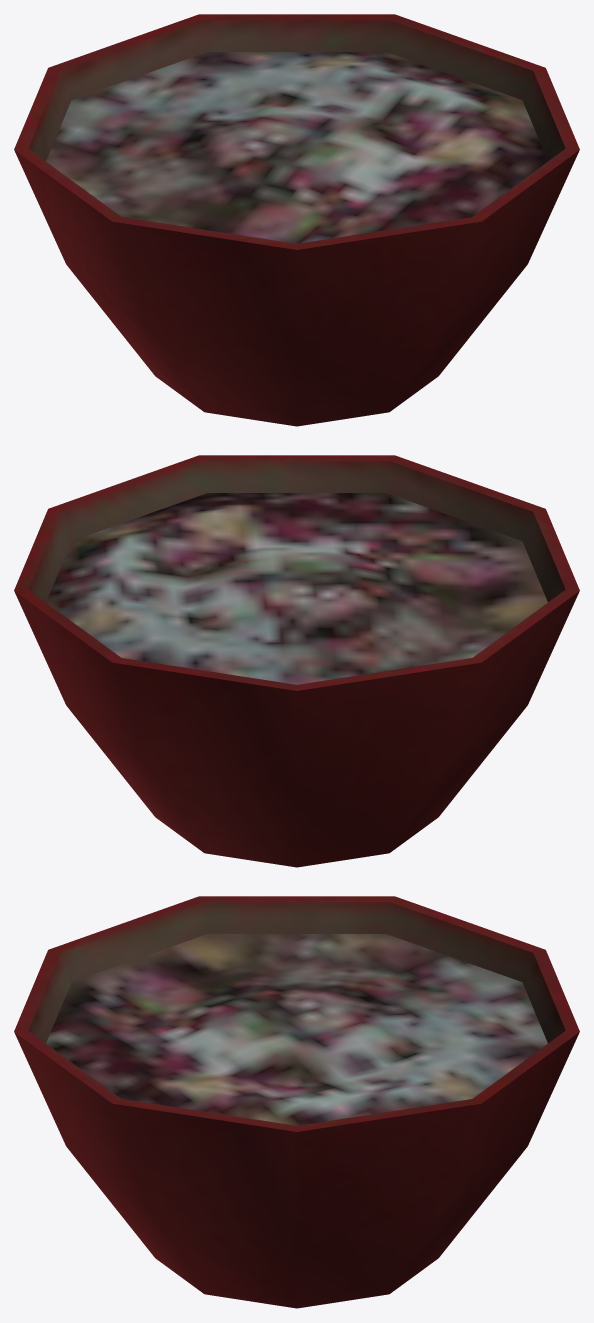
File: PotPourri.FBX
The picture shows the model from 3 angles, top to bottom: view 1: azimuth 30°, elevation 25°; view 2: azimuth 150°, elevation 25°; view 3: azimuth 270°, elevation 25°; orthographic projection.
Parts seen in each view (by area): view 1: PotPourri; view 2: PotPourri; view 3: PotPourri.
Boxes of the visible parts, x1,y1,x2,y2 form: PotPourri: (14,14,579,426); PotPourri: (14,455,579,867); PotPourri: (14,896,579,1308).
Size of the model in its own units: 29.34 by 13.77 by 29.79.
